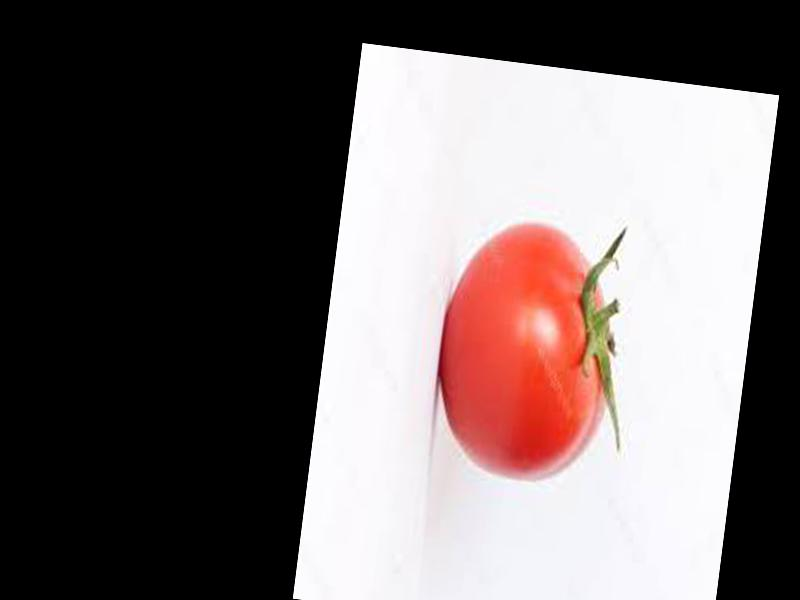Tomato: (424, 214, 624, 492)
